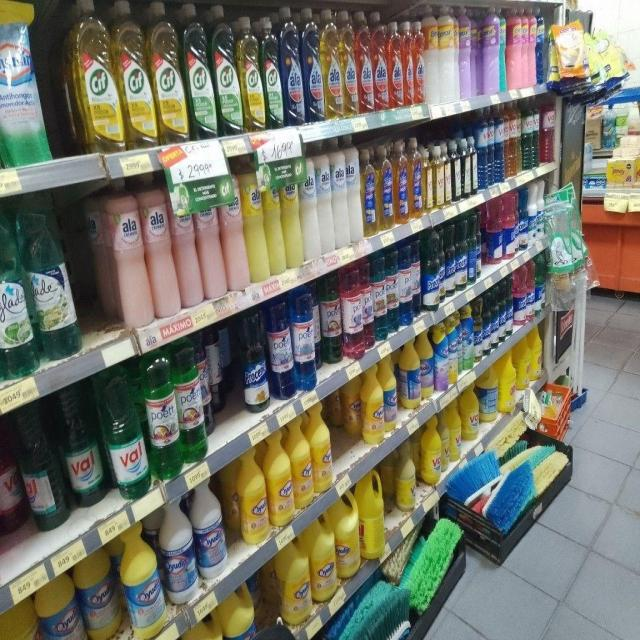ala_conc_amarillo: (322, 8, 342, 119), (342, 9, 357, 117)
ala_conc_azul: (282, 7, 302, 126), (303, 7, 322, 124)
ala_conc_rojo: (358, 10, 373, 114), (373, 12, 388, 112), (388, 19, 403, 109), (403, 20, 414, 106), (414, 19, 425, 105)
ala_crem_amarillo: (244, 160, 266, 284), (265, 160, 284, 277), (283, 156, 302, 269)
ala_crem_blanco: (302, 151, 319, 261), (333, 140, 349, 248), (348, 138, 363, 243), (319, 147, 333, 254)
ala_crem_rosado: (108, 183, 148, 328), (147, 180, 176, 319), (175, 179, 201, 309), (200, 178, 225, 300), (223, 169, 247, 292)
cif_conc_bot_amarilla: (70, 0, 118, 154), (120, 1, 152, 150), (153, 1, 184, 144), (240, 15, 263, 133)
cif_conc_botella_verde: (185, 2, 213, 140), (213, 4, 240, 137), (262, 15, 282, 130)
zorro: (378, 143, 394, 230), (363, 145, 377, 236), (394, 139, 408, 224), (408, 137, 422, 219)
